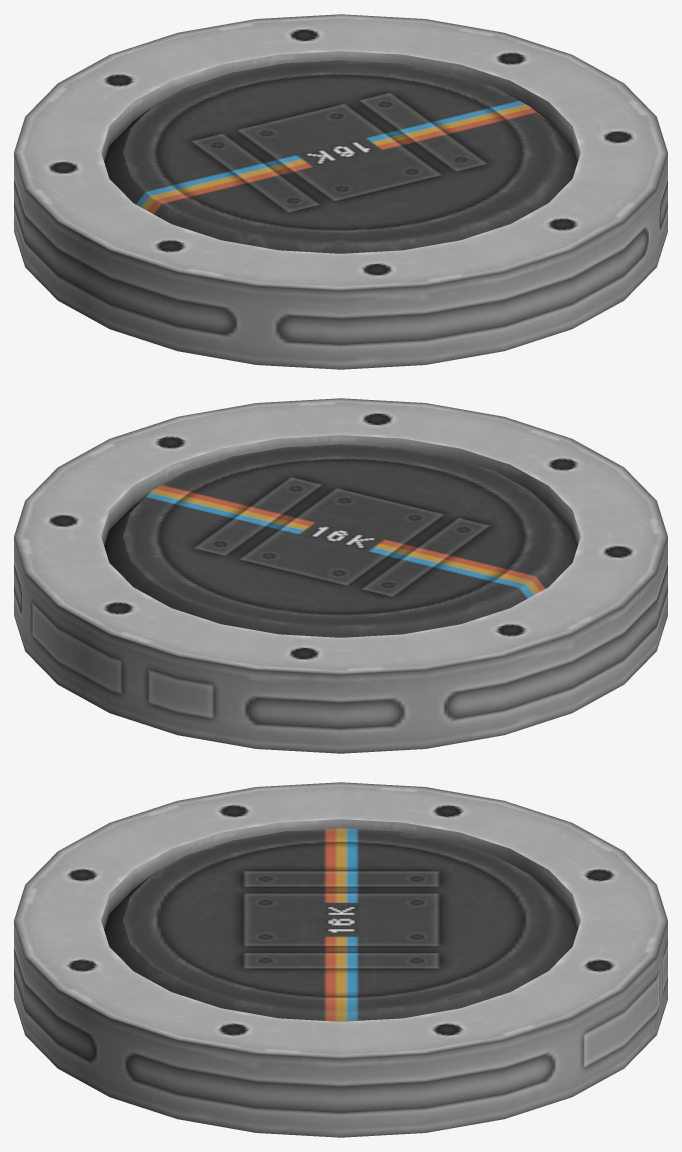
File: castor_control_s0p5_1.obj
3 views of the same model, one above another, from view 1: azimuth 30°, elevation 25°; view 2: azimuth 150°, elevation 25°; view 3: azimuth 270°, elevation 25° (orthographic).
Parts seen in each view (by area): view 1: castor_control_s0p5_1; view 2: castor_control_s0p5_1; view 3: castor_control_s0p5_1.
Part boxes in pixels (x1,y1,x2,y2): castor_control_s0p5_1: (14, 14, 667, 369); castor_control_s0p5_1: (14, 398, 667, 753); castor_control_s0p5_1: (14, 782, 667, 1137).
Bounding box in the file's own units: 0.9375 × 0.125 × 0.9375.
